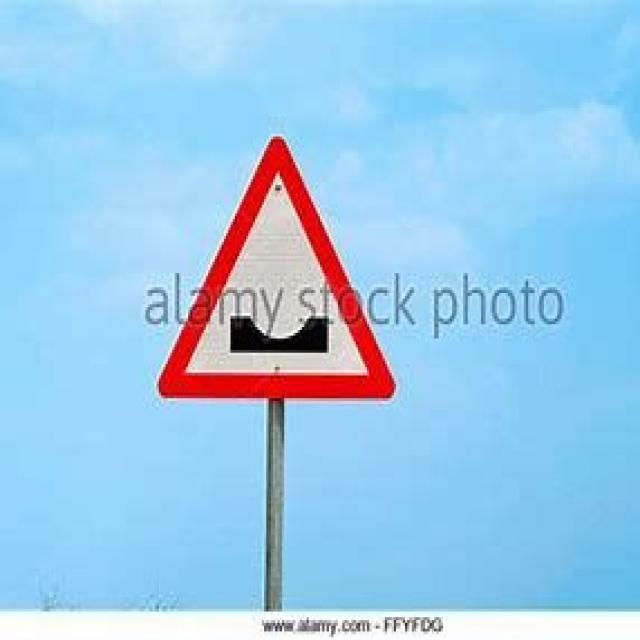DANGEROUS_DIP: (157, 132, 404, 404)
